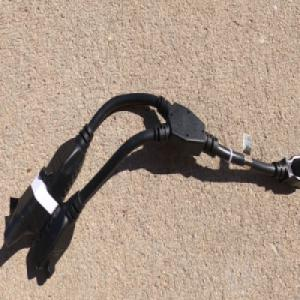Wire: (2, 90, 300, 280)
